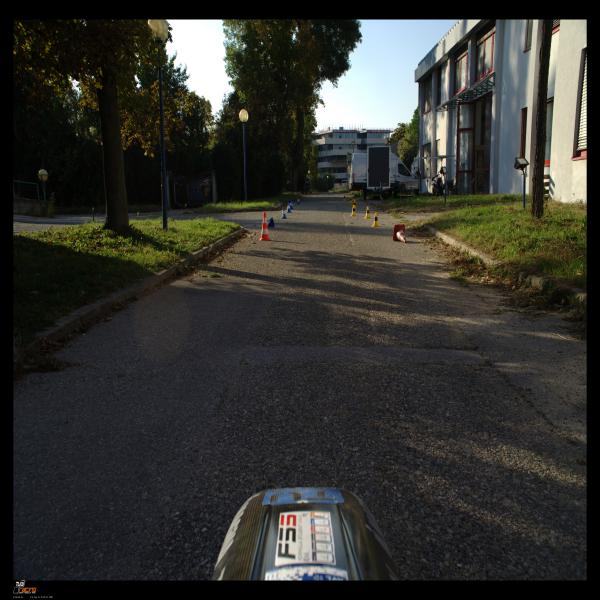blue_cone: (267, 217, 275, 228), (281, 207, 287, 219), (286, 202, 292, 212), (290, 201, 294, 209), (288, 200, 292, 206), (297, 197, 300, 204)
large_orange_cone: (260, 212, 270, 241), (393, 225, 406, 243)
yellow_cone: (372, 212, 380, 226), (364, 206, 371, 219), (350, 205, 356, 216), (351, 200, 357, 206), (354, 200, 357, 209), (343, 194, 346, 202), (349, 196, 352, 204)
